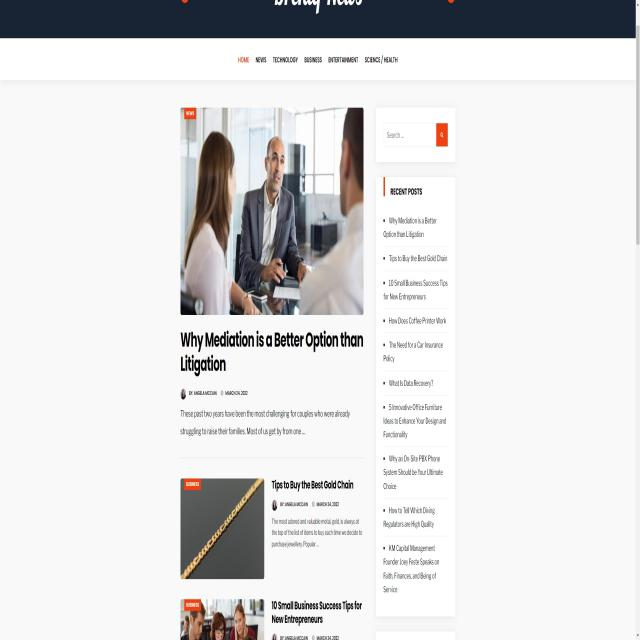menu-bar: (234, 50, 402, 67)
search: (380, 122, 448, 150)
